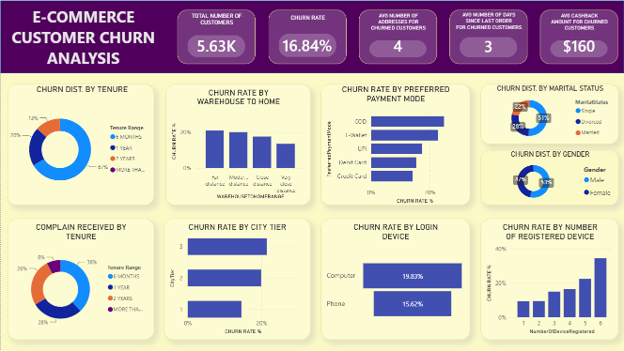

Layout of this report page (visuals, bound fields, positions):
{"tool":"powerbi","page":{"name":"Page 1","canvas":[1280,720],"ordinal":0},"visuals":[{"type":"shape","box":[0,0,1280,149.6],"z":0,"group":"g1"},{"type":"cardVisual","title":"TOTAL NUMBER OF CUSTOMERS","fields":{"Data":["CountNonNull(ECOMMERCE_CHURN_DBbrowser.CustomerID)"]},"box":[363.6,18.8,160.2,111],"z":1000,"group":"g1"},{"type":"cardVisual","title":"CHURN RATE","fields":{"Data":["ECOMMERCE_CHURN_DBbrowser.CHURN RATE %"]},"box":[549.6,18.8,160.2,111],"z":2000,"group":"g1"},{"type":"cardVisual","title":"AVG NUMBER OF ADDRESSES FOR CHURNED CUSTOMERS","fields":{"Data":["ECOMMERCE_CHURN_DBbrowser.AVG ADDRESS (CHURNED)"]},"box":[735.6,18.8,160.2,111],"z":3000,"group":"g1"},{"type":"cardVisual","title":"AVG NUMBER OF DAYS SINCE LAST ORDER FOR CHURNED CUSTOMERS","fields":{"Data":["ECOMMERCE_CHURN_DBbrowser.AVG DAYS SINCE LAST ORDERS FOR CHURNED"]},"box":[921.5,18.8,160.2,111],"z":4000,"group":"g1"},{"type":"cardVisual","title":"AVG CASHBACK AMOUNT FOR CHURNED CUSTOMERS","fields":{"Data":["ECOMMERCE_CHURN_DBbrowser.AVG CASHBACK AMOUNT FOR CHURNED CUSTOMERS"]},"box":[1107.5,19.4,160.2,111],"z":5000,"group":"g1"},{"type":"clusteredColumnChart","title":"CHURN RATE BY WAREHOUSE TO HOME","fields":{"Category":["ECOMMERCE_CHURN_DBbrowser.WAREHOUSETOHOMERANGE"],"Y":["ECOMMERCE_CHURN_DBbrowser.CHURN RATE %"]},"box":[338.8,171.3,298,249.7],"z":6000},{"type":"clusteredBarChart","title":"CHURN RATE BY PREFERRED PAYMENT MODE","fields":{"Category":["ECOMMERCE_CHURN_DBbrowser.PreferredPaymentMode"],"Y":["ECOMMERCE_CHURN_DBbrowser.CHURN RATE %"]},"box":[657.3,171.3,306.4,249.7],"z":7000},{"type":"donutChart","title":"CHURN DIST. BY TENURE","fields":{"Category":["ECOMMERCE_CHURN_DBbrowser.Tenure Range"],"Y":["ECOMMERCE_CHURN_DBbrowser.CHURN RATE %"]},"box":[14.2,171.3,300.4,249.7],"z":8000},{"type":"clusteredBarChart","title":"CHURN RATE BY CITY TIER","fields":{"Category":["ECOMMERCE_CHURN_DBbrowser.CityTier"],"Y":["ECOMMERCE_CHURN_DBbrowser.CHURN RATE %"]},"box":[335.9,447.5,300.4,249.7],"z":9000},{"type":"funnel","title":"CHURN RATE BY LOGIN DEVICE","fields":{"Category":["ECOMMERCE_CHURN_DBbrowser.PreferredLoginDevice"],"Y":["ECOMMERCE_CHURN_DBbrowser.CHURN RATE %"]},"box":[657.7,447.5,306.4,249.7],"z":10000},{"type":"clusteredColumnChart","title":"CHURN RATE BY NUMBER OF REGISTERED DEVICE","fields":{"Category":["ECOMMERCE_CHURN_DBbrowser.NumberOfDeviceRegistered"],"Y":["ECOMMERCE_CHURN_DBbrowser.CHURN RATE %"]},"box":[985.4,447.5,283.5,249.7],"z":11000},{"type":"donutChart","title":"CHURN DIST. BY MARITAL STATUS","fields":{"Category":["ECOMMERCE_CHURN_DBbrowser.MaritalStatus"],"Y":["ECOMMERCE_CHURN_DBbrowser.CHURN RATE %"]},"box":[985.4,171.3,283.5,124.3],"z":12000},{"type":"donutChart","title":"CHURN DIST. BY GENDER","fields":{"Category":["ECOMMERCE_CHURN_DBbrowser.Gender"],"Y":["ECOMMERCE_CHURN_DBbrowser.CHURN RATE %"]},"box":[985.4,306.4,283.5,114.6],"z":13000},{"type":"donutChart","title":"COMPLAIN RECEIVED BY TENURE","fields":{"Category":["ECOMMERCE_CHURN_DBbrowser.Tenure Range"],"Y":["CountNonNull(ECOMMERCE_CHURN_DBbrowser.COMPLAINRECIEVED)"]},"box":[14.2,447.5,300.4,249.7],"z":14000},{"type":"textbox","box":[1.2,6,337.8,138.7],"z":15000,"group":"g1"},{"type":"group","id":"g1","title":"Group 1","box":[0,0,1280,149.6],"z":15001}]}

Visuals, with their boxes in screenshot pixels (x1, y1, x2, y2), scaled from the page's 1280x720 canvas onto the 624x351 screenshot:
shape: BBox(0, 0, 623, 73)
"TOTAL NUMBER OF CUSTOMERS" cardVisual: BBox(177, 9, 255, 63)
"CHURN RATE" cardVisual: BBox(268, 9, 346, 63)
"AVG NUMBER OF ADDRESSES FOR CHURNED CUSTOMERS" cardVisual: BBox(359, 9, 437, 63)
"AVG NUMBER OF DAYS SINCE LAST ORDER FOR CHURNED CUSTOMERS" cardVisual: BBox(449, 9, 527, 63)
"AVG CASHBACK AMOUNT FOR CHURNED CUSTOMERS" cardVisual: BBox(540, 9, 618, 64)
"CHURN RATE BY WAREHOUSE TO HOME" clusteredColumnChart: BBox(165, 84, 310, 205)
"CHURN RATE BY PREFERRED PAYMENT MODE" clusteredBarChart: BBox(320, 84, 470, 205)
"CHURN DIST. BY TENURE" donutChart: BBox(7, 84, 153, 205)
"CHURN RATE BY CITY TIER" clusteredBarChart: BBox(164, 218, 310, 340)
"CHURN RATE BY LOGIN DEVICE" funnel: BBox(321, 218, 470, 340)
"CHURN RATE BY NUMBER OF REGISTERED DEVICE" clusteredColumnChart: BBox(480, 218, 619, 340)
"CHURN DIST. BY MARITAL STATUS" donutChart: BBox(480, 84, 619, 144)
"CHURN DIST. BY GENDER" donutChart: BBox(480, 149, 619, 205)
"COMPLAIN RECEIVED BY TENURE" donutChart: BBox(7, 218, 153, 340)
textbox: BBox(1, 3, 165, 71)
"Group 1" group: BBox(0, 0, 623, 73)
